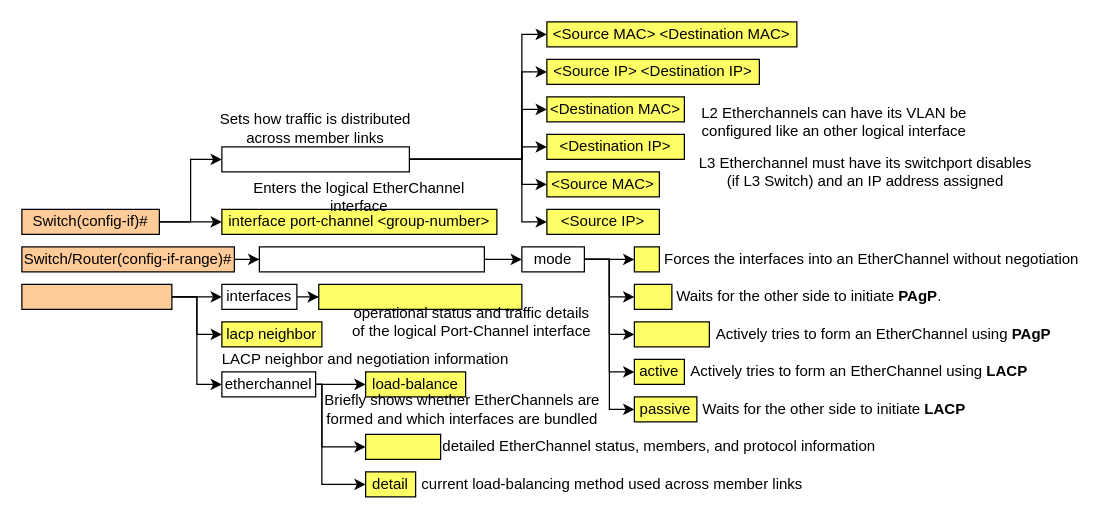
Image size: 1106x519. Some labels were removed from this diagram. The centre of each missing label's shape, as x and y in pixels:
"auto" belongs at [652,296].
"channel-group <group number>" belongs at [371,259].
"desirable" belongs at [671,334].
"on" belongs at [646,259].
"port-channel <group number>" belongs at [420,296].
"port-channel load-balance" belongs at [315,159].
"summary" belongs at [402,446].
"Switch/Router# show" belongs at [96,296].
